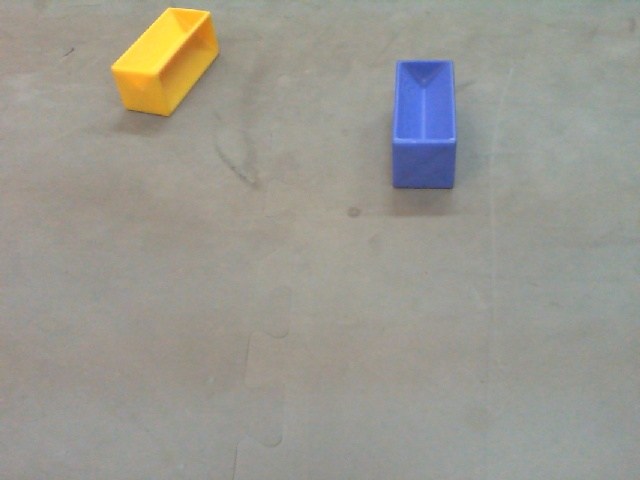BlueSample: (392, 57, 458, 190)
YellowSample: (110, 4, 223, 121)
